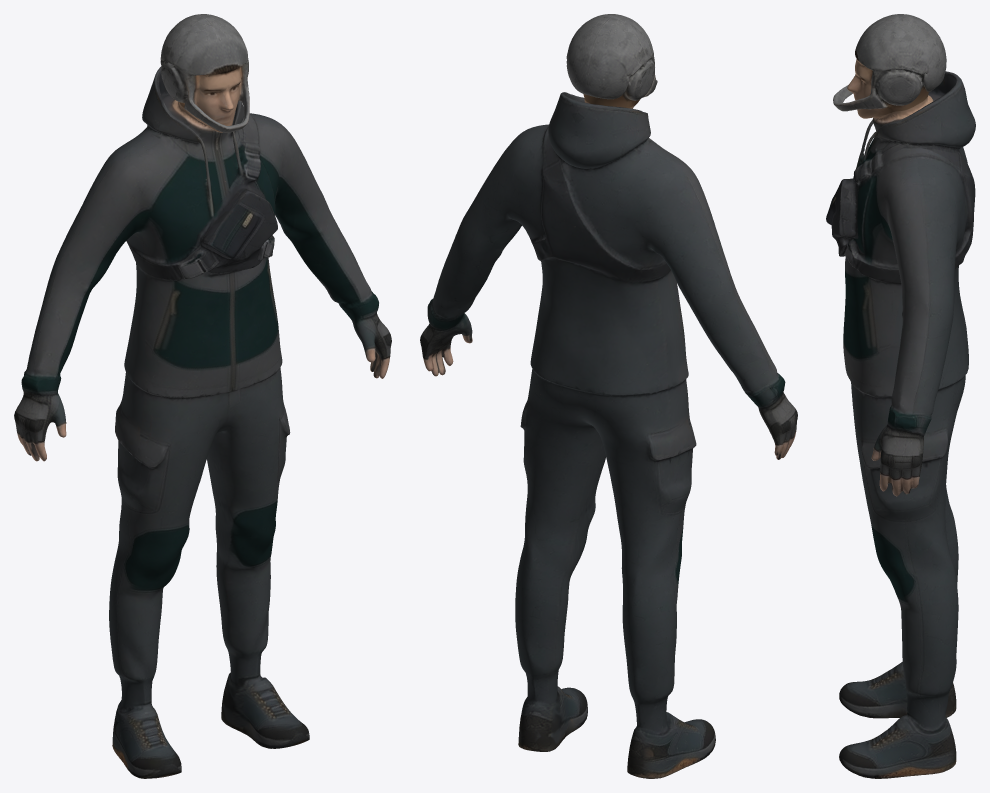
File: Meshy_AI_Urban_Recon_Pilot_1023084741_texture.glb
The picture shows the model from 3 angles, left to right: view 1: azimuth 30°, elevation 25°; view 2: azimuth 150°, elevation 25°; view 3: azimuth 270°, elevation 25°; orthographic projection.
Size of the model in its own units: 1 by 1.9 by 0.3577.
1 material, 1 textured.
